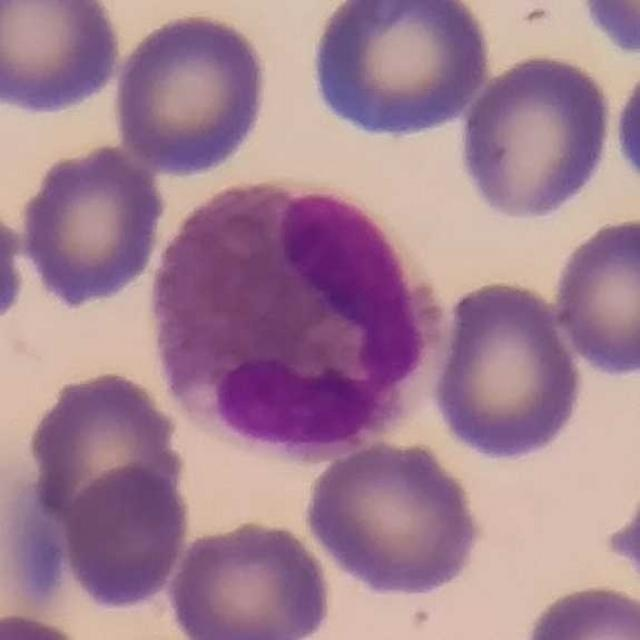Eosinophil: (140, 173, 447, 465)
Platelets: (610, 50, 640, 200), (577, 0, 640, 60)
RBC: (300, 437, 487, 599), (428, 276, 586, 465), (23, 366, 190, 539), (455, 49, 617, 225), (108, 8, 274, 178), (304, 0, 495, 144), (15, 139, 169, 312), (165, 515, 336, 640), (59, 462, 194, 612), (548, 213, 640, 380), (0, 0, 127, 117), (0, 456, 78, 624), (516, 580, 640, 640), (0, 190, 29, 340), (602, 478, 640, 592), (575, 0, 640, 59), (0, 609, 93, 640)
